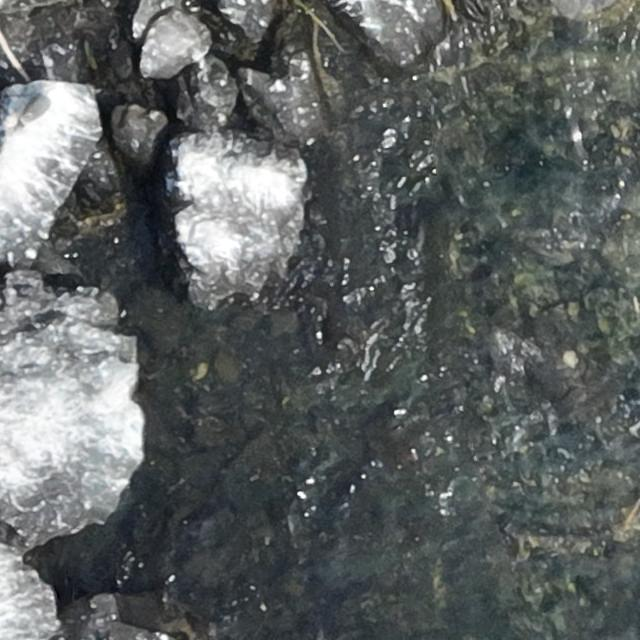umineko: (18, 79, 64, 138)
